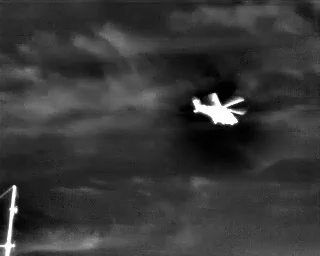HELICOPTER: (189, 86, 249, 132)
